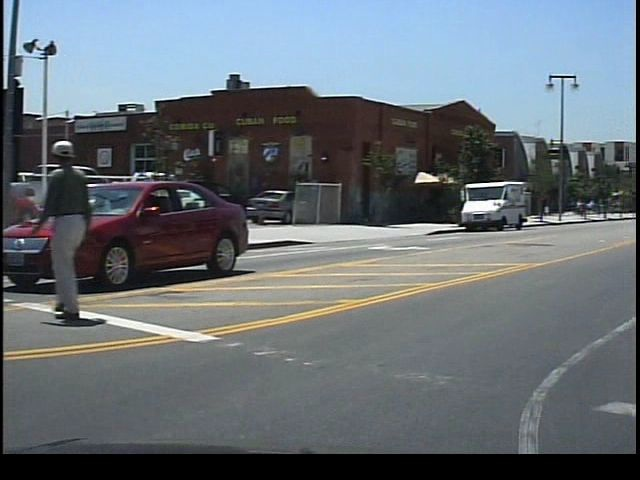person: (46, 136, 119, 324)
